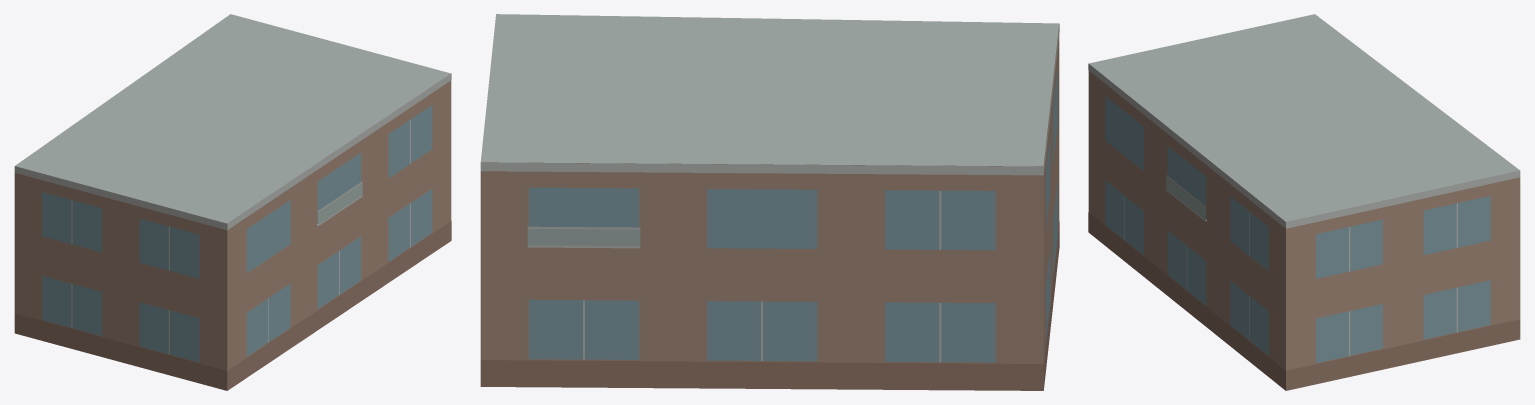
Rendered from survey-upis-32611331.glb.
The picture shows the model from 3 angles, left to right: view 1: azimuth 30°, elevation 25°; view 2: azimuth 150°, elevation 25°; view 3: azimuth 270°, elevation 25°; orthographic projection. The views are drawn at different scales.
Parts seen in each view (by area): view 1: survey-upis-32611331.tmp; view 2: survey-upis-32611331.tmp; view 3: survey-upis-32611331.tmp.
Boxes of the visible parts, box(x1,y1,x2,y2) form: survey-upis-32611331.tmp: box(14, 14, 451, 390); survey-upis-32611331.tmp: box(480, 14, 1059, 390); survey-upis-32611331.tmp: box(1088, 14, 1520, 390).
Bounding box in the file's own units: 16.13 × 6.1 × 14.15.
